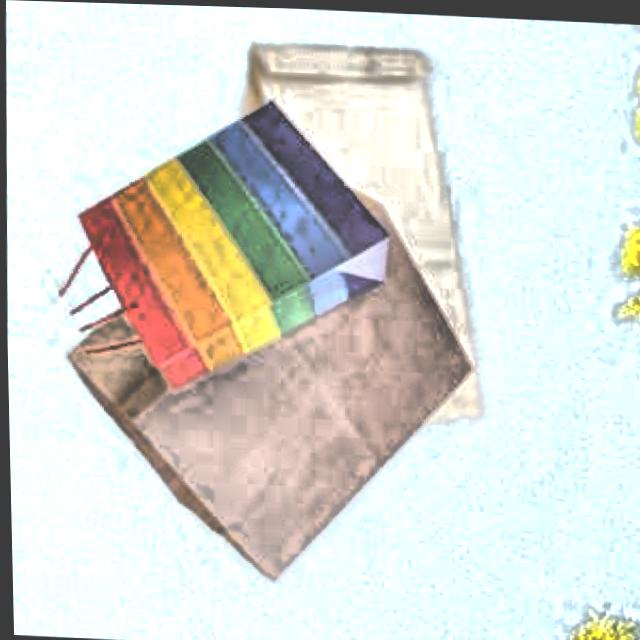Paper-bag: (46, 94, 403, 374)
